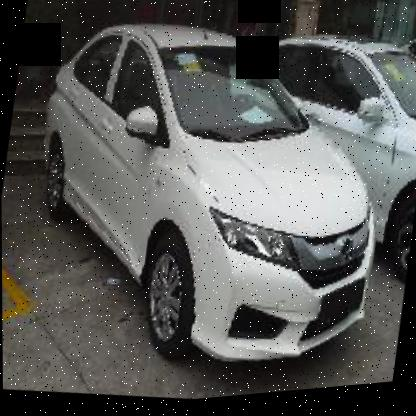not_emergency: (8, 0, 413, 401)
